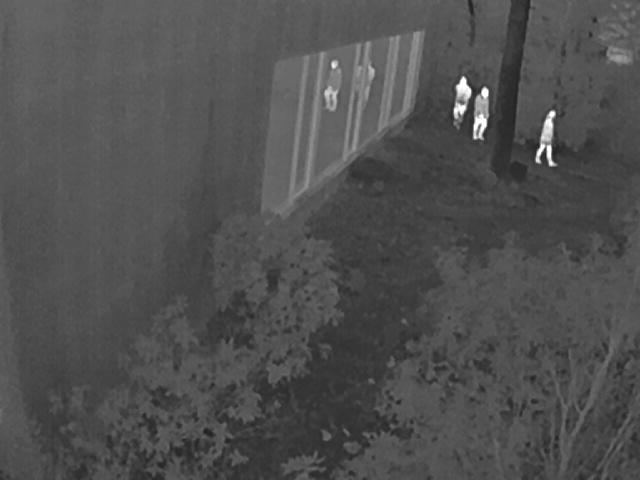person: (451, 74, 473, 129), (537, 109, 558, 166), (325, 57, 344, 111), (474, 87, 491, 140)
